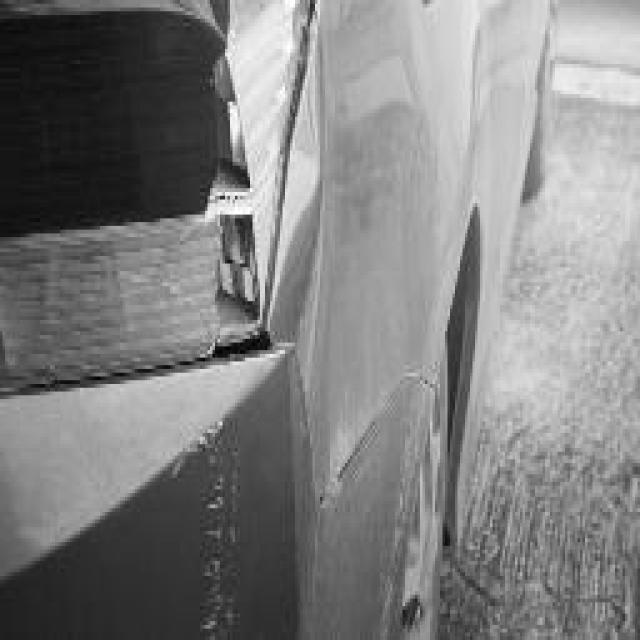Bumper: (156, 351, 315, 640)
Light: (3, 2, 312, 393)
